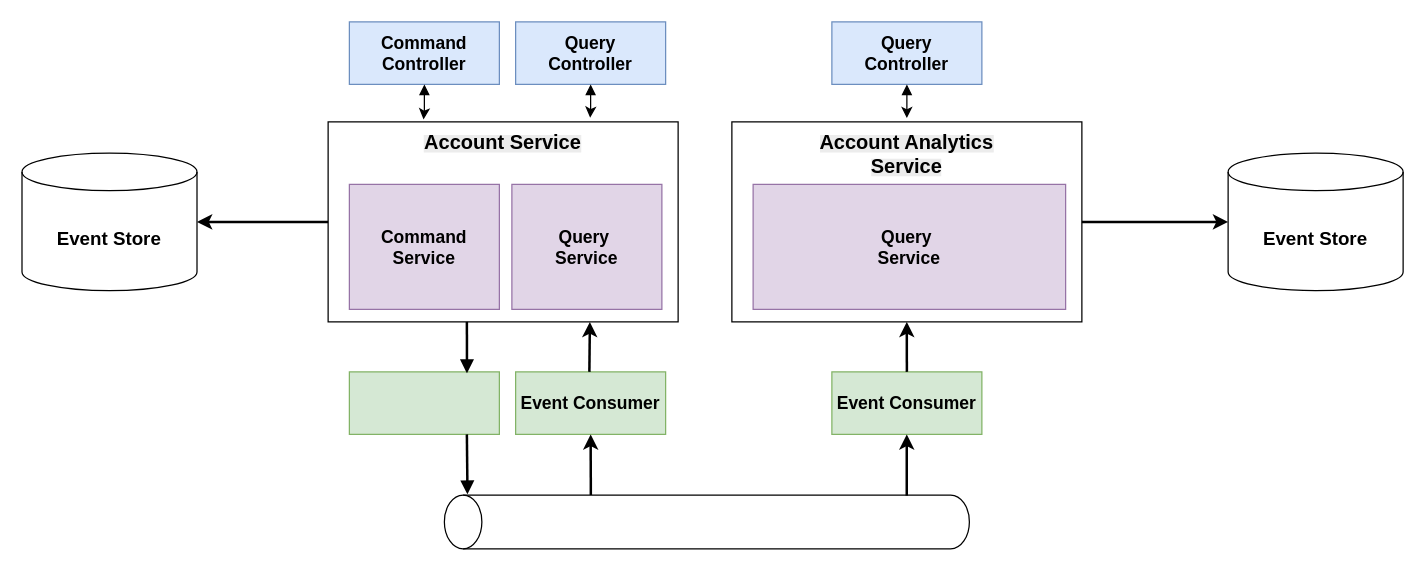
Some shapes in this 1425 by 571 pixel diagram are drawn without their labels. The shapes that lost their labels are listed below. From the top down, each one's centre as x and y in pixels, then its label:
(423,402): Event Publisher
(706,521): Messaging System
